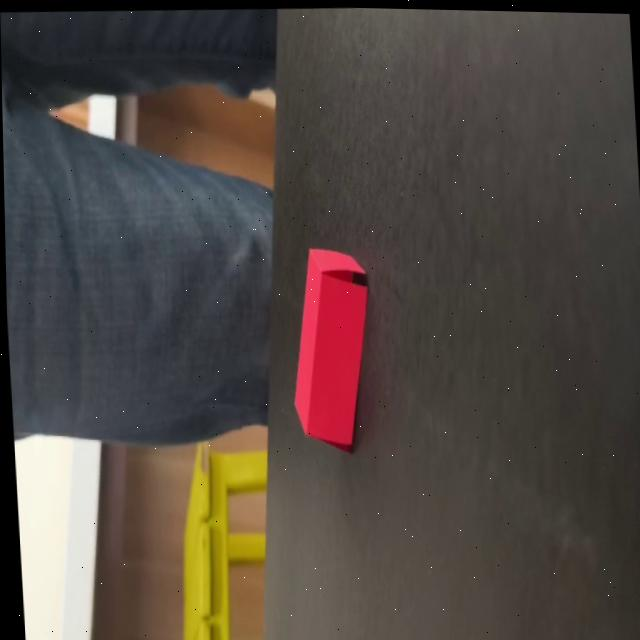red block: (283, 243, 377, 454)
